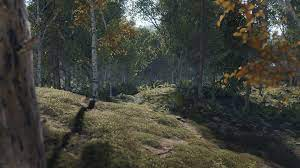tree: (4, 2, 50, 168), (211, 1, 262, 102), (84, 14, 115, 102), (190, 1, 215, 100), (161, 27, 196, 97), (46, 7, 74, 87), (115, 42, 137, 93)
